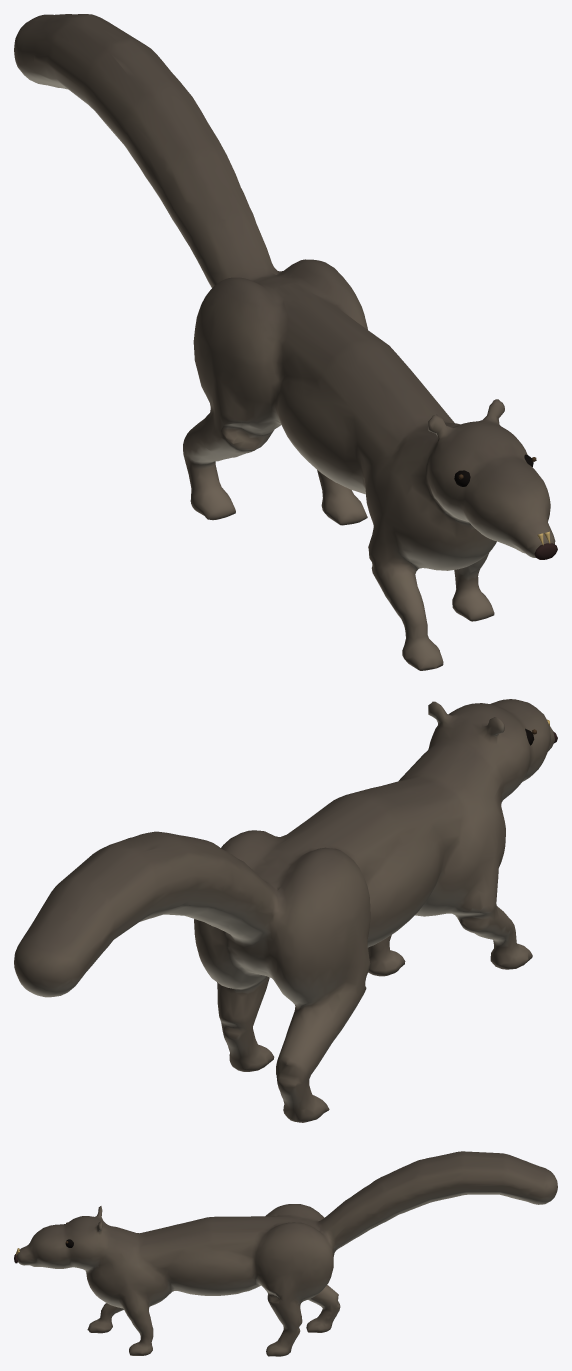
File: PlesiadapisTricuspidens.fbx
3 views of the same model, one above another, from view 1: azimuth 30°, elevation 25°; view 2: azimuth 150°, elevation 25°; view 3: azimuth 270°, elevation 25° (orthographic). The views are drawn at different scales.
Parts seen in each view (by area): view 1: PlesiadapisTricuspidens; view 2: PlesiadapisTricuspidens; view 3: PlesiadapisTricuspidens.
Boxes of the visible parts, x1,y1,x2,y2 form: PlesiadapisTricuspidens: (14,14,557,670); PlesiadapisTricuspidens: (14,699,557,1122); PlesiadapisTricuspidens: (14,1151,557,1356).
Size of the model in its own units: 0.264 by 0.6218 by 1.61.
